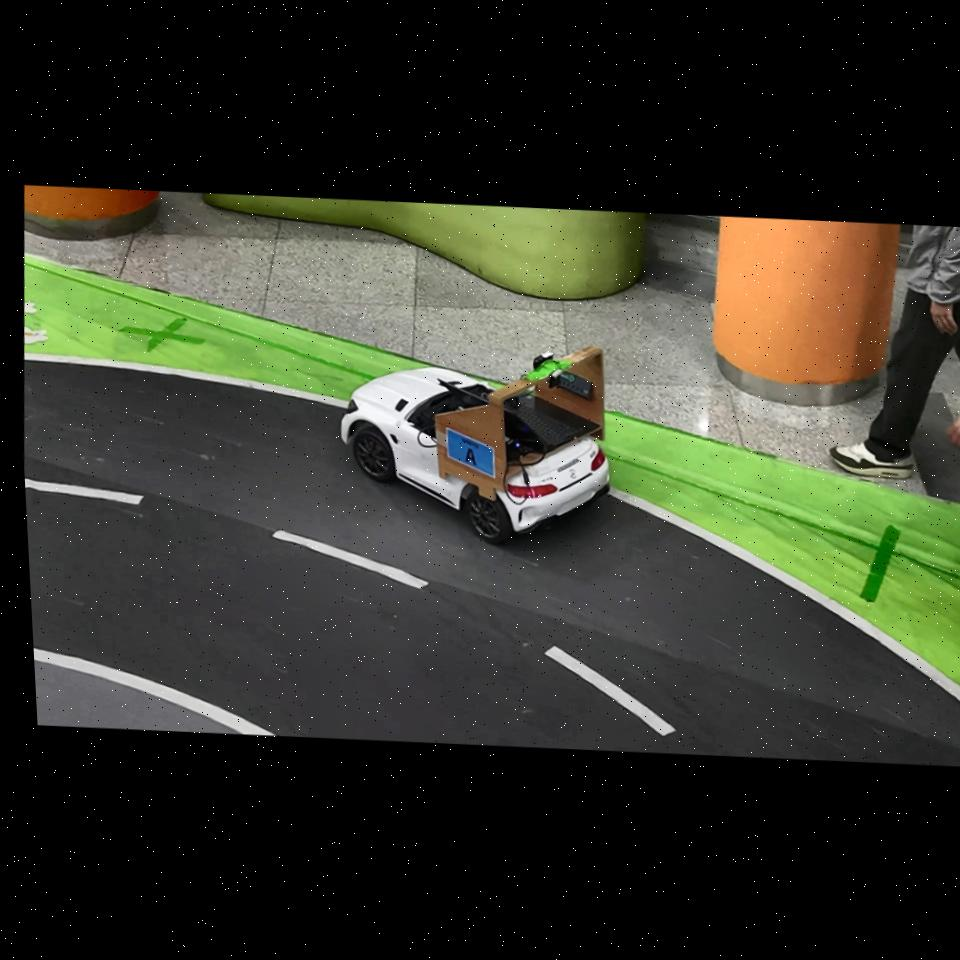broken_line: (544, 645, 676, 737), (272, 530, 429, 589), (25, 478, 144, 505)
